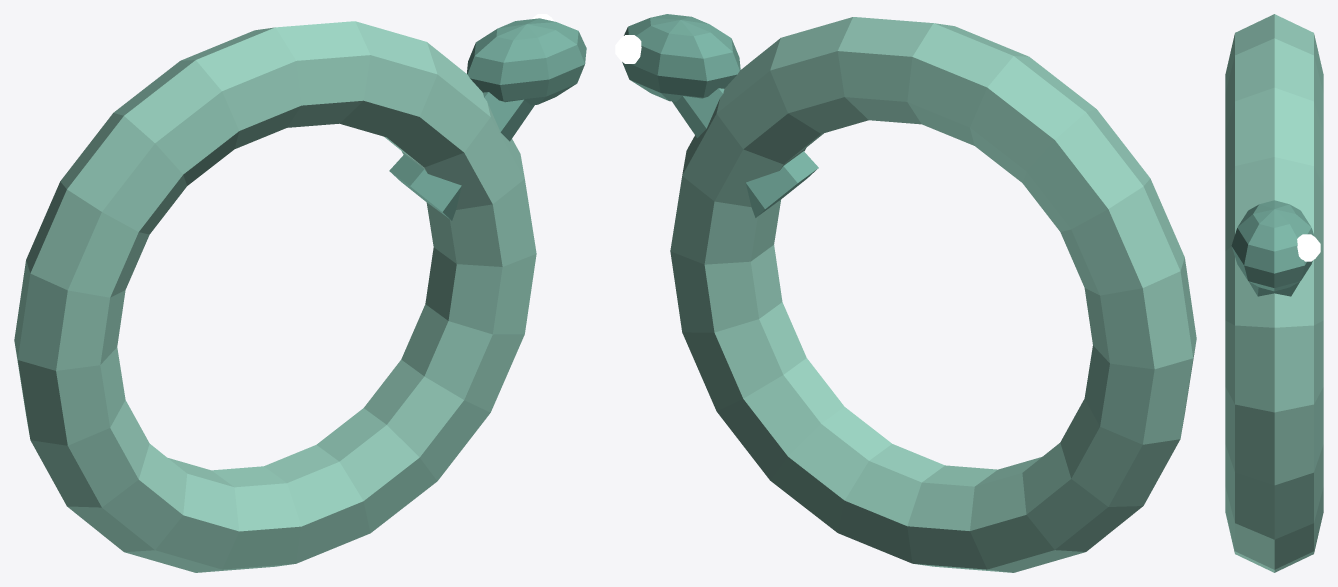
The model's file is warden_sigil.glb.
3 renders of one model, left to right at view 1: azimuth 30°, elevation 25°; view 2: azimuth 150°, elevation 25°; view 3: azimuth 270°, elevation 25°, orthographic. The views are drawn at different scales.
Parts seen in each view (by area): view 1: Ring, SerpentHead, Neck; view 2: Ring, SerpentHead, Neck; view 3: Ring, SerpentHead, SerpentEye, Neck.
Boxes of the visible parts, bbox=[...] form: Ring: bbox=[14, 21, 536, 572]; SerpentHead: bbox=[467, 18, 586, 105]; Neck: bbox=[389, 92, 534, 220]; Ring: bbox=[670, 17, 1196, 572]; SerpentHead: bbox=[622, 14, 740, 101]; Neck: bbox=[672, 88, 818, 217]; Ring: bbox=[1225, 14, 1323, 572]; SerpentHead: bbox=[1231, 200, 1314, 291]; SerpentEye: bbox=[1297, 234, 1320, 261]; Neck: bbox=[1249, 282, 1299, 296].
Size of the model in its own units: 0.861 by 0.78 by 0.1365.
